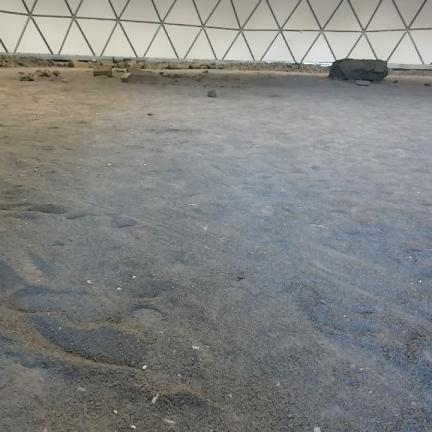Rock: (329, 59, 388, 81), (127, 68, 158, 80), (93, 66, 112, 77), (121, 73, 132, 82), (20, 74, 34, 81), (355, 80, 371, 86), (41, 70, 53, 77), (207, 90, 217, 97), (53, 70, 59, 76), (61, 78, 67, 83), (35, 69, 41, 74), (165, 73, 172, 77), (170, 75, 179, 78), (203, 84, 208, 88), (17, 71, 23, 74), (425, 83, 431, 86), (393, 80, 398, 83), (147, 113, 152, 115), (203, 71, 208, 73), (159, 72, 163, 74), (175, 80, 178, 82)
